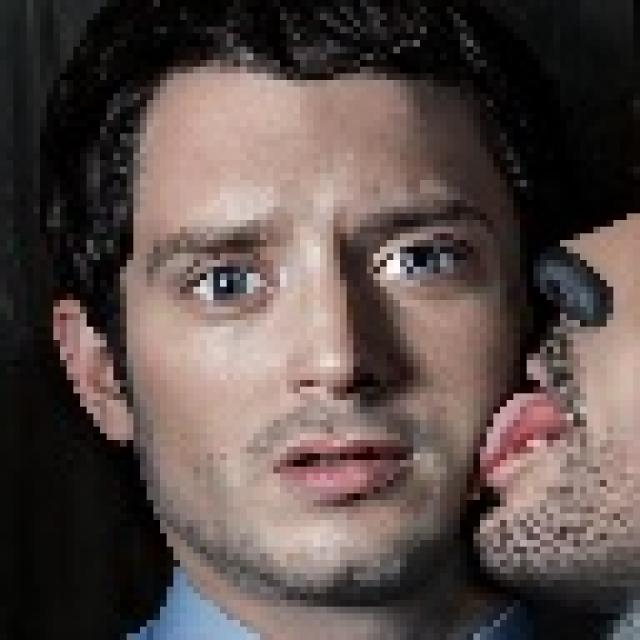sad: (119, 54, 546, 587)
